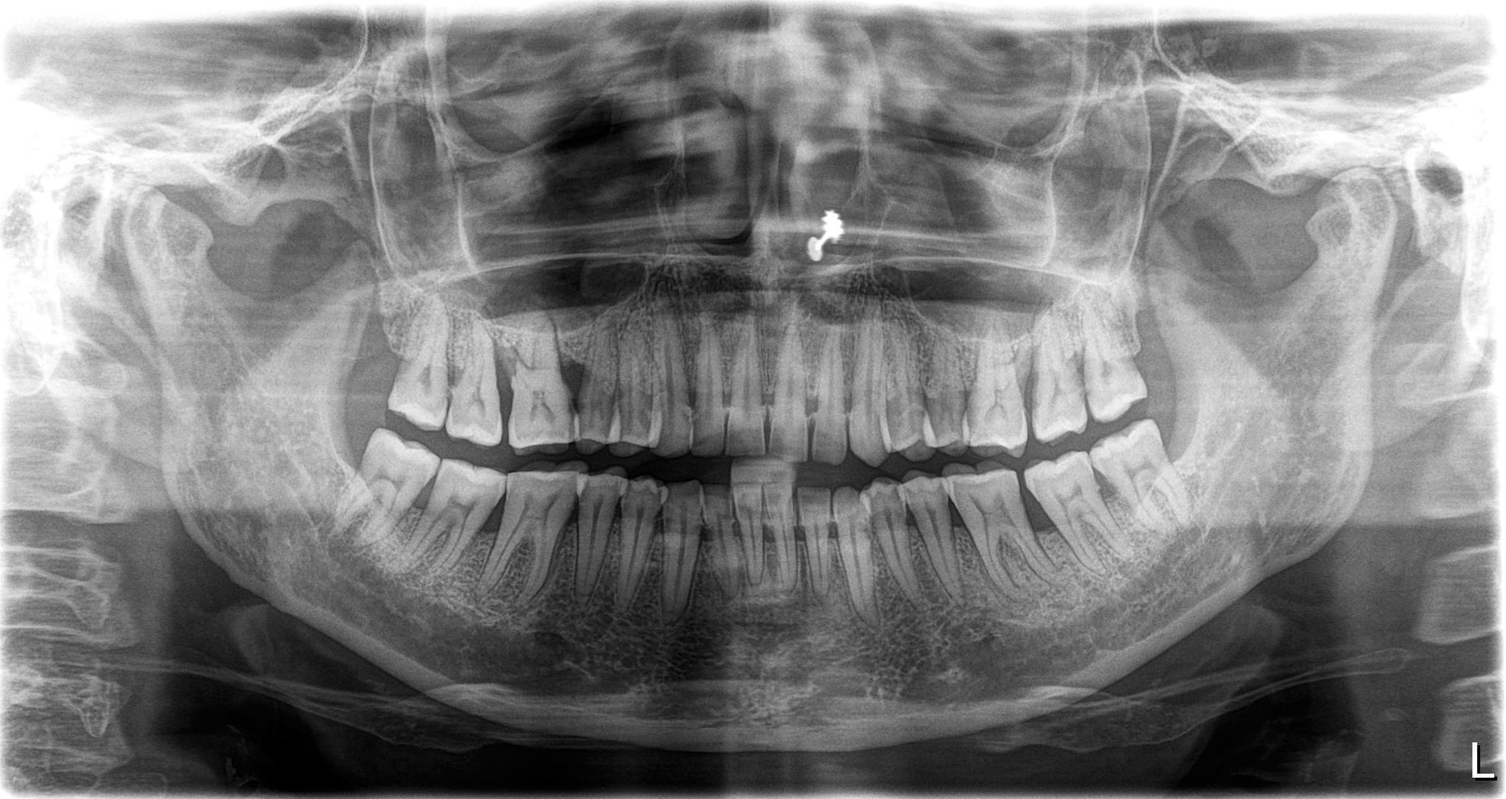Impacted Third Molar: (323, 436, 427, 553), (1099, 434, 1217, 537)
